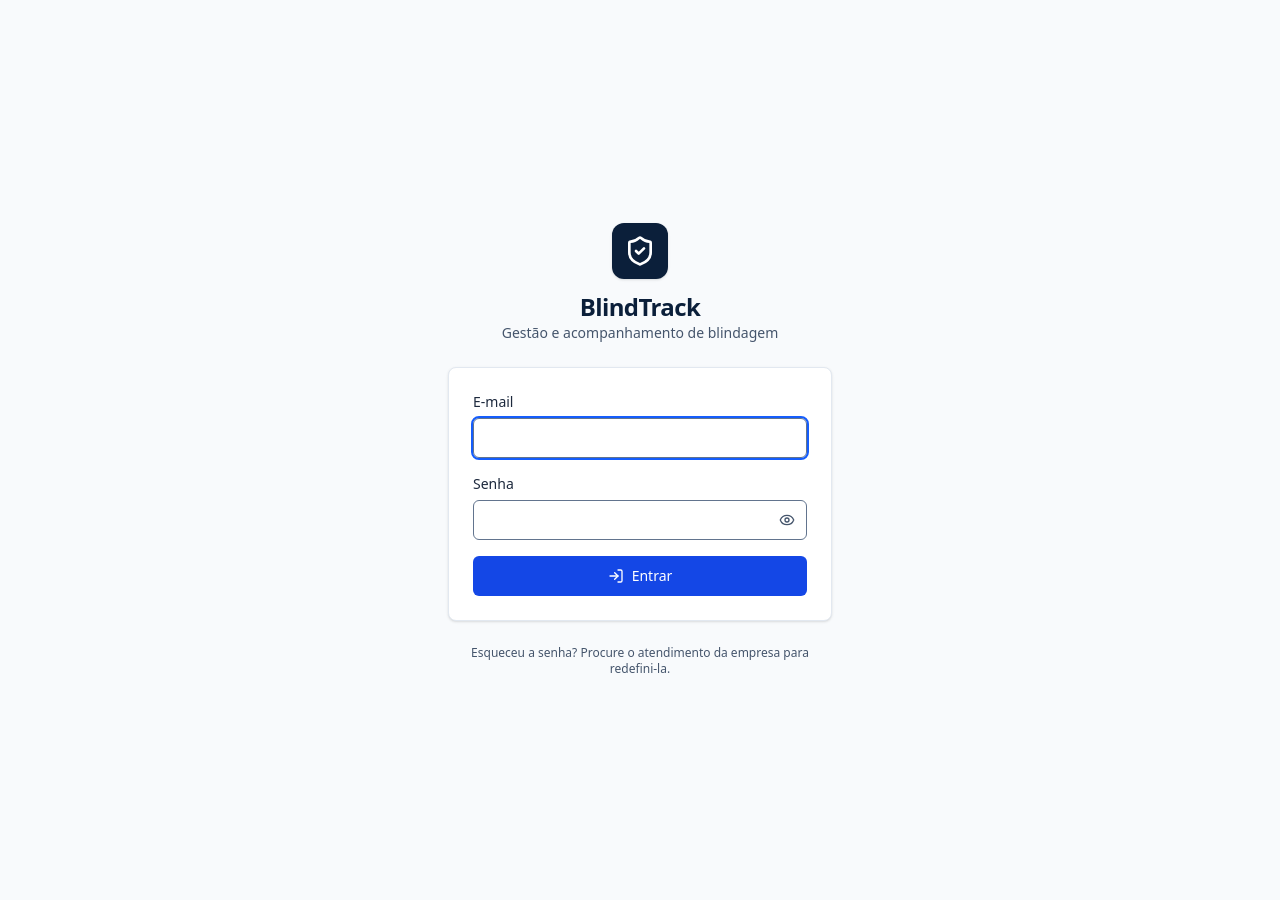
Test case: Login › perfil interno entra e vai para o painel
The image size is (1280, 900).
In the field labelled "E-mail": (640,438) [473,418,807,458], type "gestor@exemplo.example"
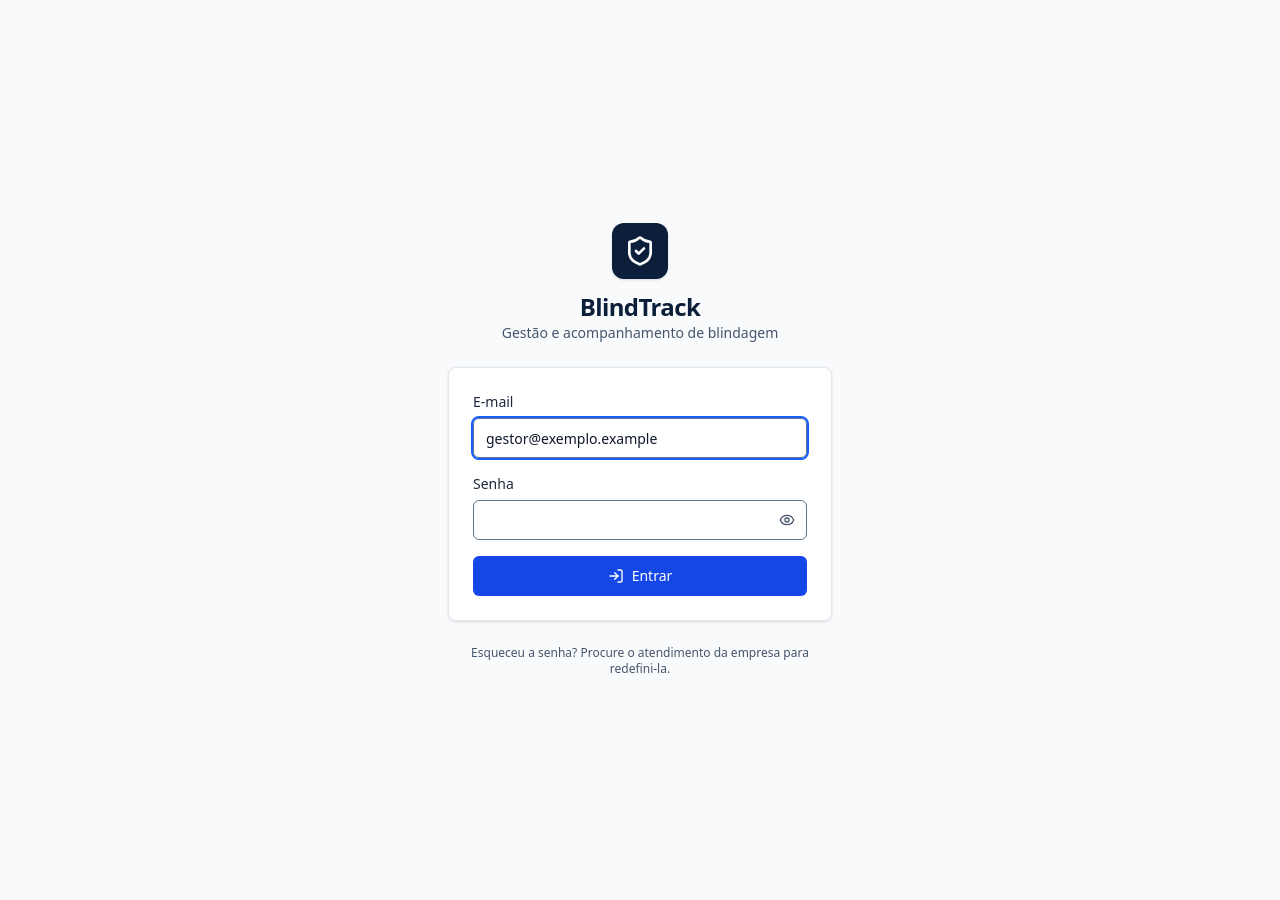
In the password field labelled "Senha": (640,520) [473,500,807,540], type "SenhaForte123"
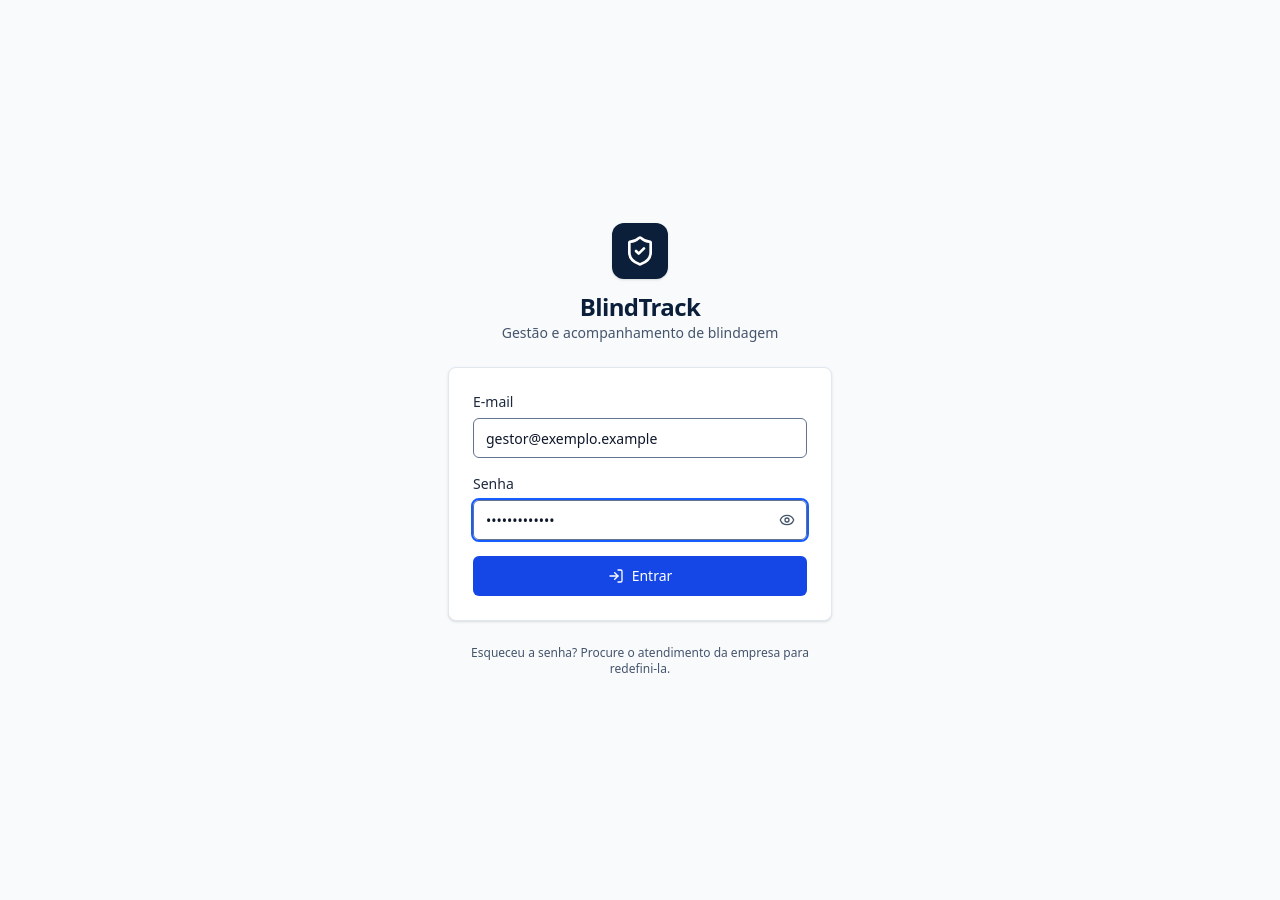
Click the button "Entrar": (640,576) [473,556,807,596]
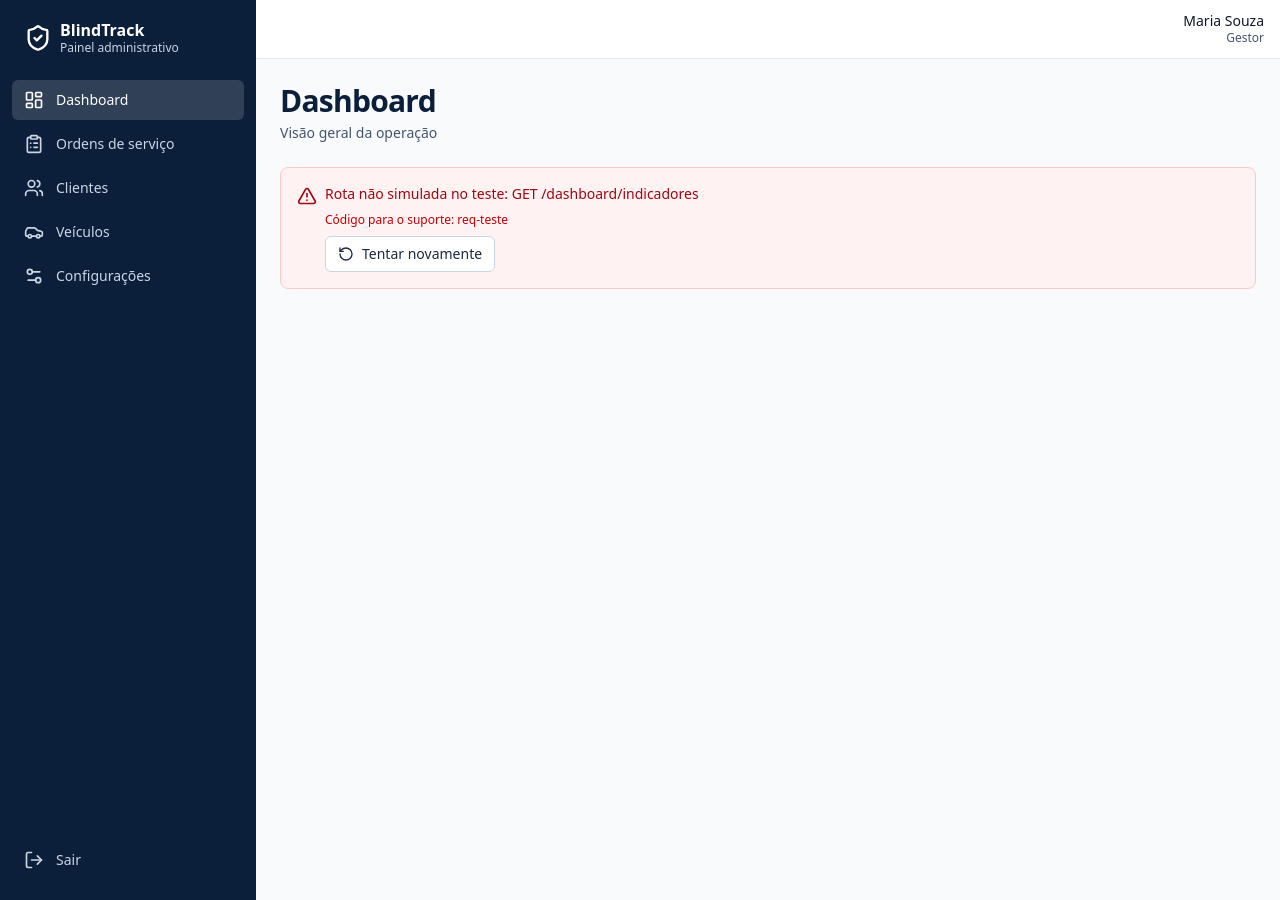
Expected: the heading "Dashboard" is shown, [280,82,437,118]
Expected: the header shows "Gestor", [1226,28,1264,46]
